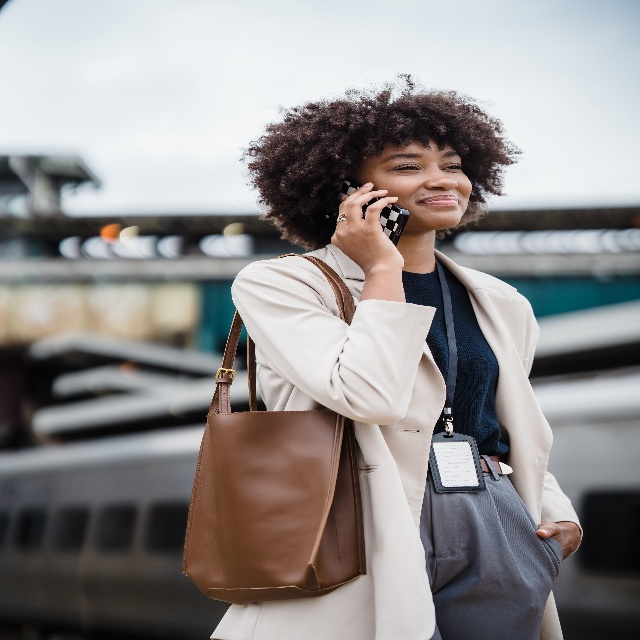Sin_guantes: (331, 181, 404, 277), (535, 521, 581, 561)
